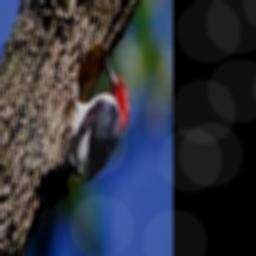Woodpecker: (37, 56, 129, 220)
